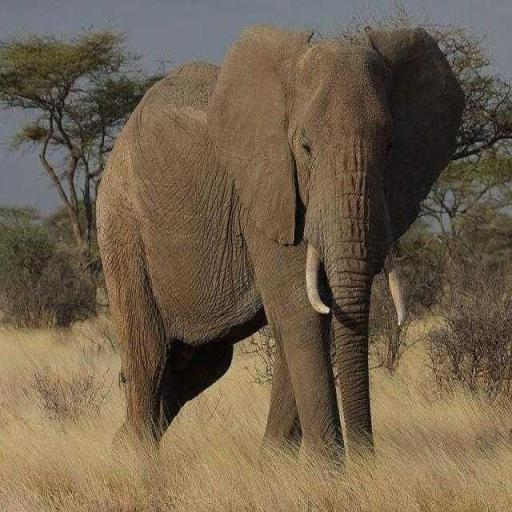Elephant: (94, 20, 466, 473)
